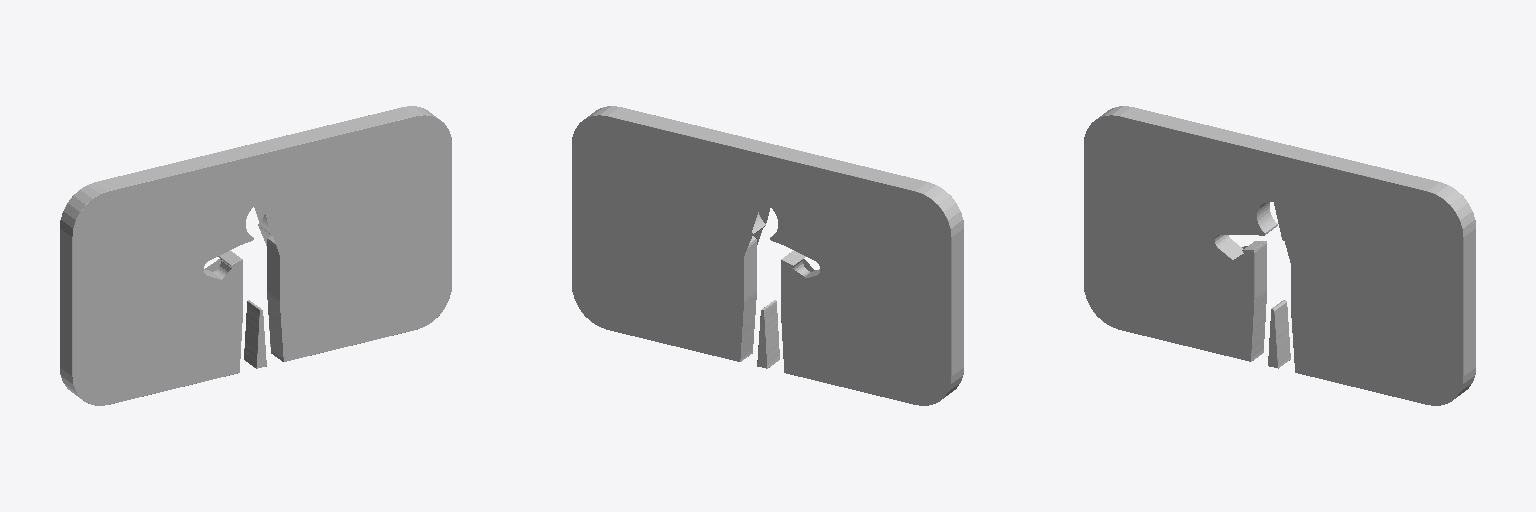
3 views of the same model, side by side, from view 1: azimuth 30°, elevation 25°; view 2: azimuth 150°, elevation 25°; view 3: azimuth 330°, elevation 25° (orthographic).
Parts seen in each view (by area): view 1: POSE17; view 2: POSE17; view 3: POSE17.
Part boxes in pixels (x1,y1,x2,y2): POSE17: (60,106,451,405); POSE17: (572,106,963,405); POSE17: (1084,106,1475,405).
Size of the model in its own units: 12 by 6.45 by 0.7.